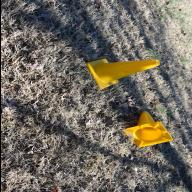cone: (84, 58, 159, 90), (122, 111, 172, 148)
